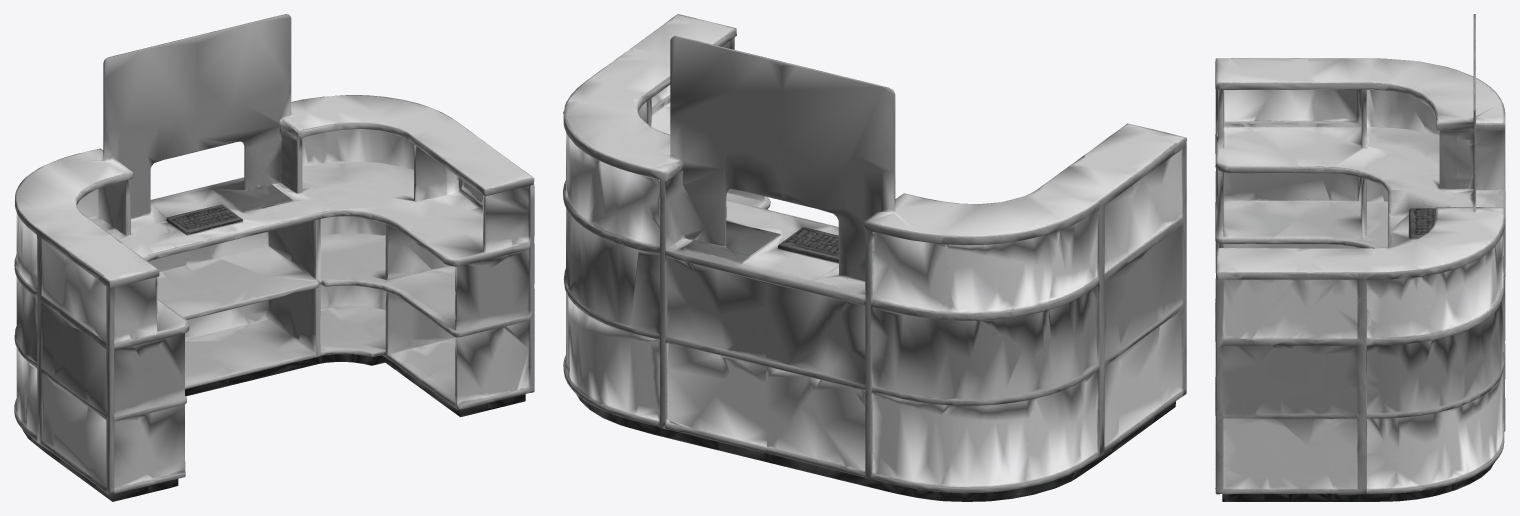
Rendered from ward-desk.glb.
The picture shows the model from 3 angles, left to right: view 1: azimuth 30°, elevation 25°; view 2: azimuth 150°, elevation 25°; view 3: azimuth 270°, elevation 25°; orthographic projection. The views are drawn at different scales.
Parts seen in each view (by area): view 1: mesh_node; view 2: mesh_node; view 3: mesh_node.
Part boxes in pixels (box(x1,y1,x2,y2)): mesh_node: box(14, 14, 534, 501); mesh_node: box(563, 14, 1186, 501); mesh_node: box(1215, 14, 1505, 501).
Size of the model in its own units: 1.9 by 1.4 by 1.09.
Materials: 1 (1 with a texture image).
